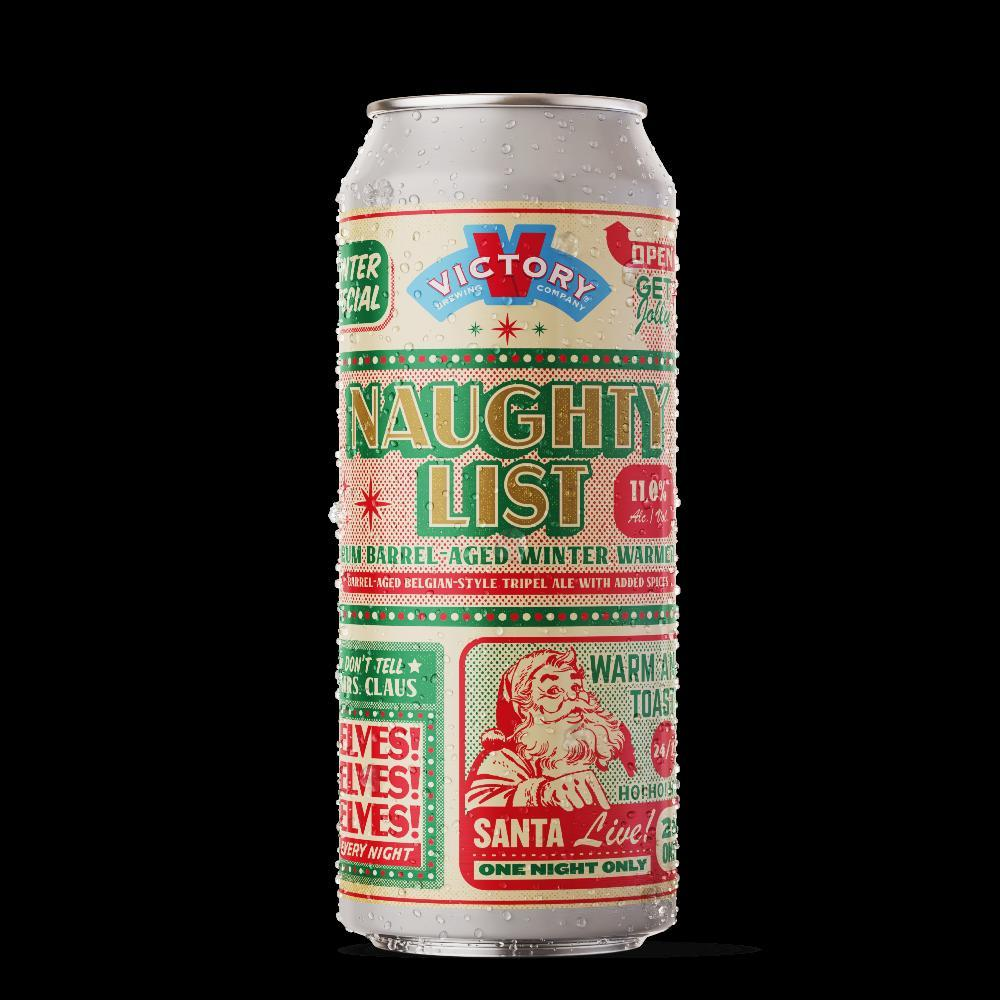metal: (187, 36, 422, 481)
